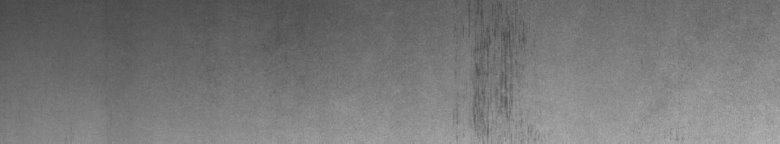ka: (472, 8, 526, 136)
